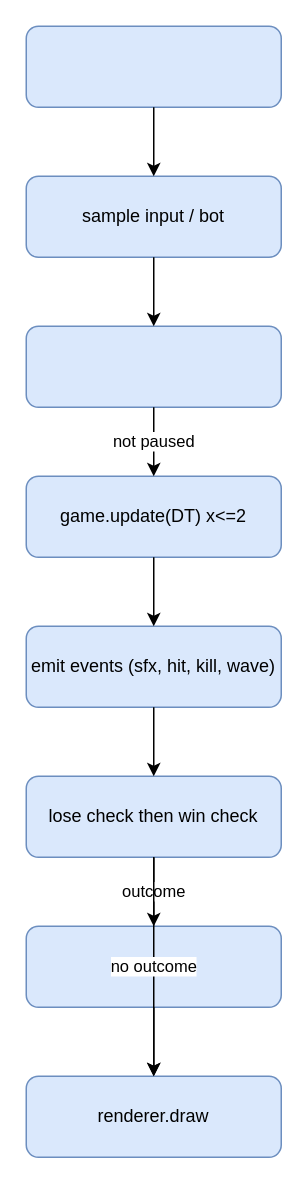
Image size: 308x1184. Some labels were removed from this diagram. The box of each missing label's shape, as (x1, y1, x2, y2) in pixels:
game_over -> recordScore: (25, 925, 281, 1007)
menu open? acc=0: (25, 325, 281, 407)
rAF frame: (25, 25, 281, 107)
